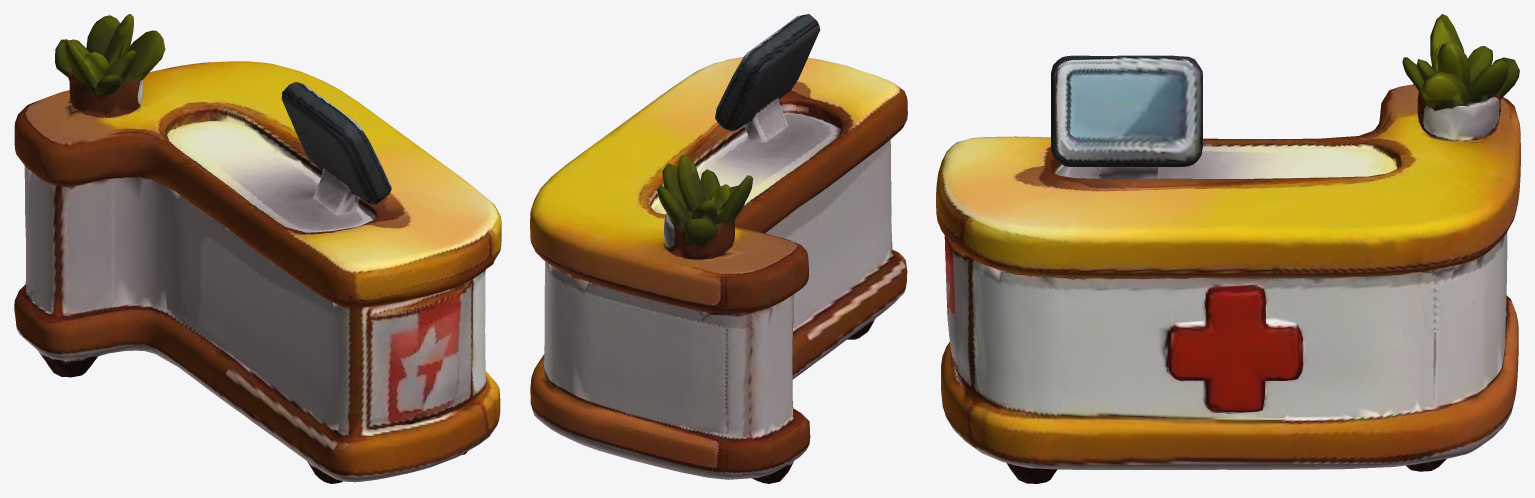
The model's file is counter.glb.
3 renders of one model, left to right at view 1: azimuth 30°, elevation 25°; view 2: azimuth 150°, elevation 25°; view 3: azimuth 270°, elevation 25°, orthographic. The views are drawn at different scales.
Parts seen in each view (by area): view 1: tripo_node_b9555e1d-844a-4edf-ac8a-23b471437967; view 2: tripo_node_b9555e1d-844a-4edf-ac8a-23b471437967; view 3: tripo_node_b9555e1d-844a-4edf-ac8a-23b471437967.
Part boxes in pixels (x1,y1,x2,y2): tripo_node_b9555e1d-844a-4edf-ac8a-23b471437967: [14, 14, 501, 483]; tripo_node_b9555e1d-844a-4edf-ac8a-23b471437967: [530, 14, 907, 483]; tripo_node_b9555e1d-844a-4edf-ac8a-23b471437967: [936, 14, 1520, 483].
Size of the model in its own units: 0.6266 by 0.7118 by 0.9999.
1 material, 1 textured.
